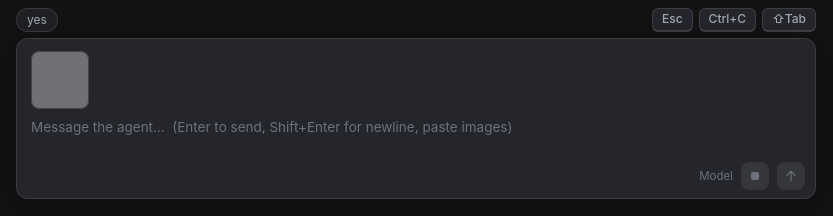
Test: Composer › pastes each image path for claude, then submits the text
Replace the text in the text box with "what is this" at (418,138), box [31,117,805,158]
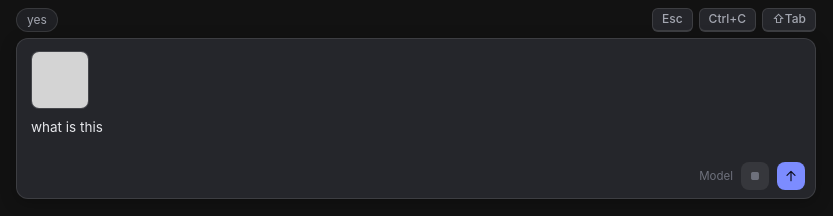
expect the button named "Send" is enabled: met, box [777,162,805,190]
Press Enter in the text box, box [31,117,805,158]
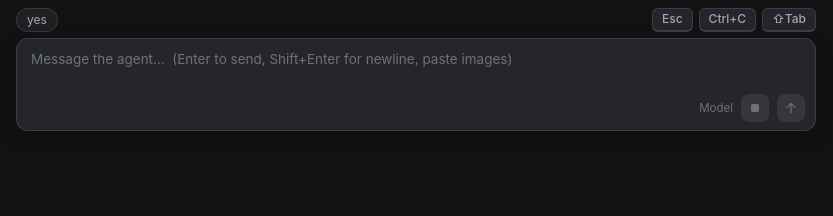
expect the picture is gone: met
